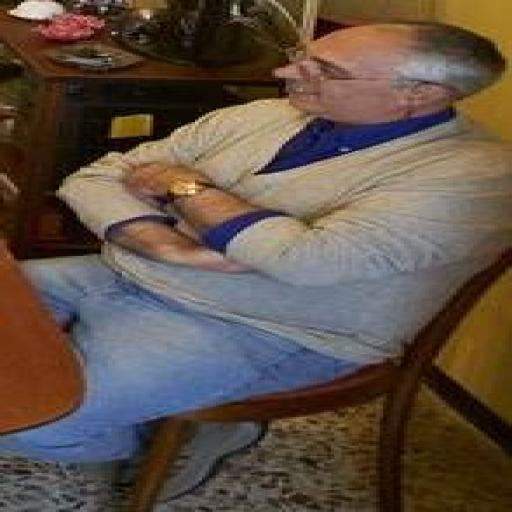person: (0, 23, 511, 462)
